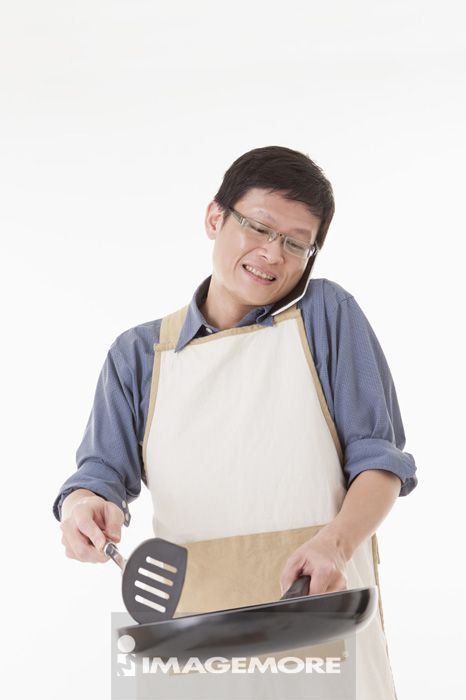phone: (271, 255, 316, 315)
talk: (226, 211, 314, 317)
